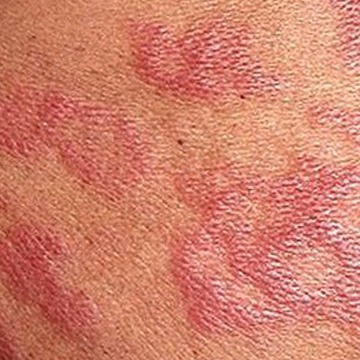Leprosy: (169, 155, 358, 359), (0, 86, 158, 200), (0, 199, 115, 353), (130, 17, 294, 108), (320, 0, 359, 75), (303, 94, 359, 145)
